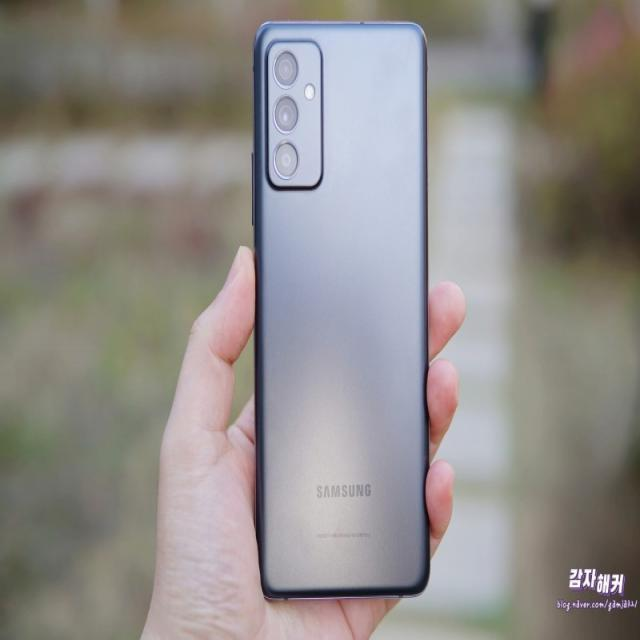phone: (248, 14, 434, 604)
